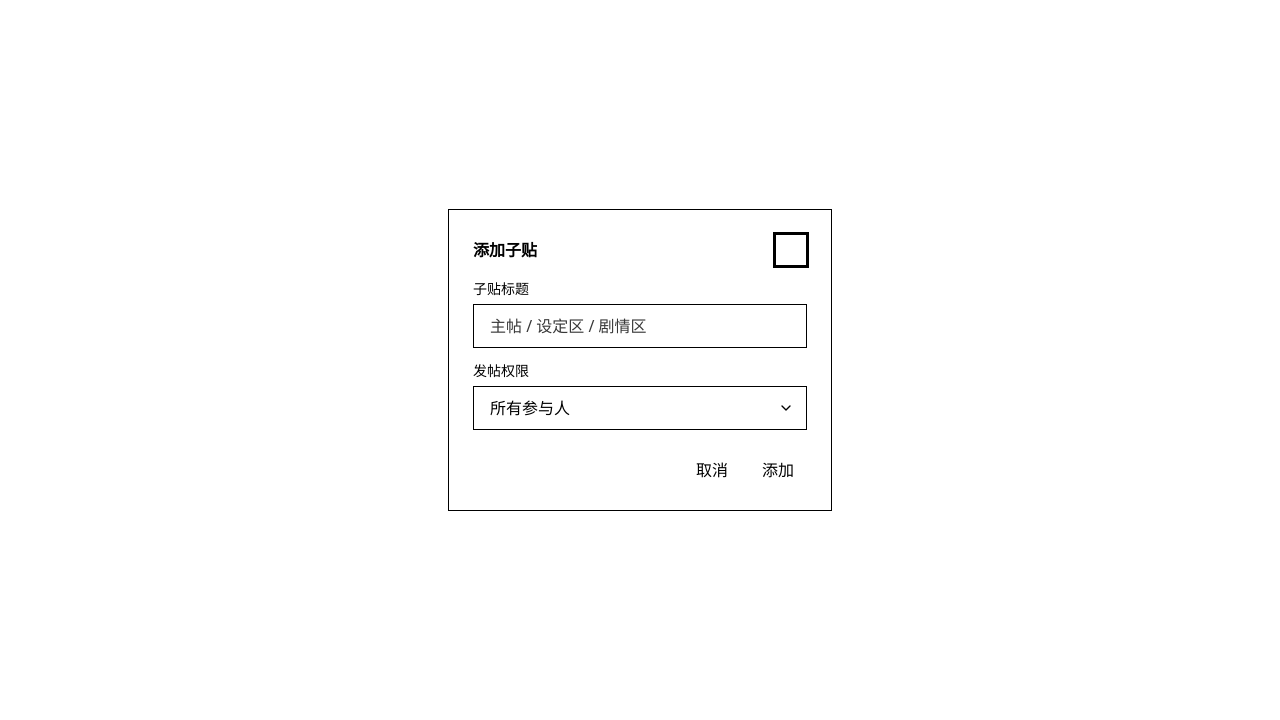
Test: SubthreadForm › 标题为空时显示校验错误
The width and height of the screenshot is (1280, 720).
Click the button "添加".
click(778, 470)  # box [749,454,807,486]
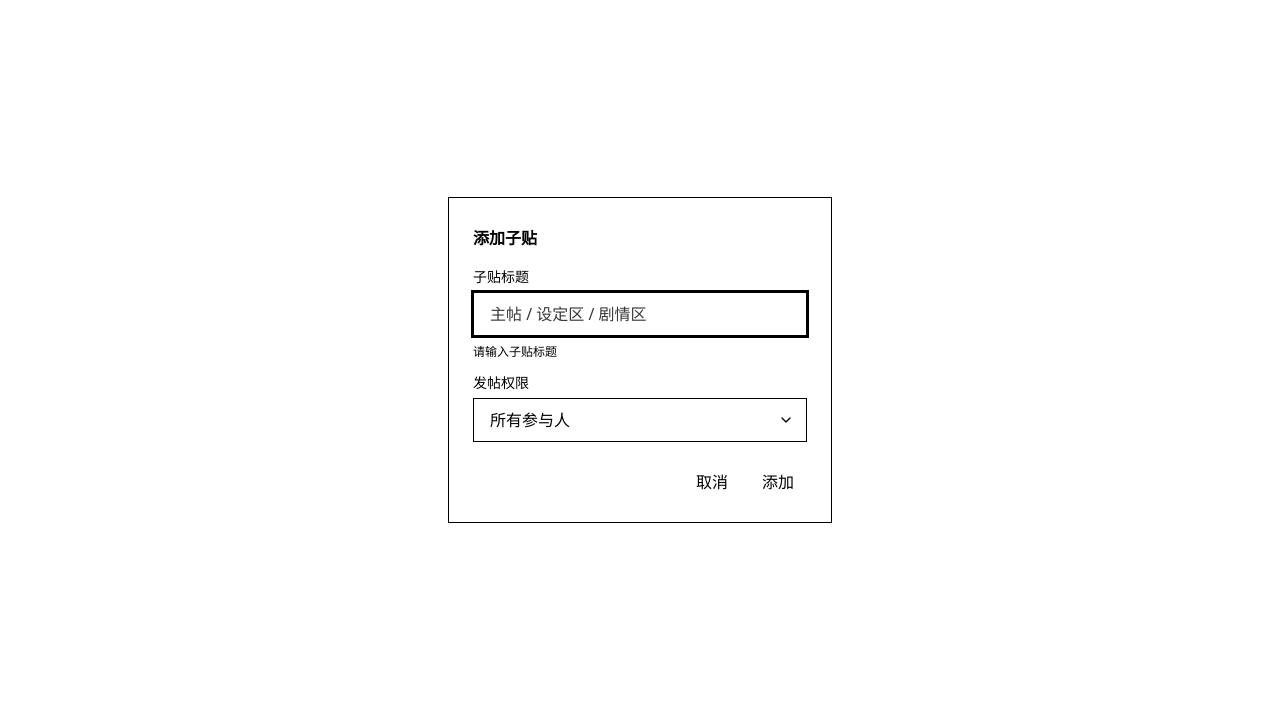
Expected: the text "请输入子贴标题" is shown, [473,343,557,360]
